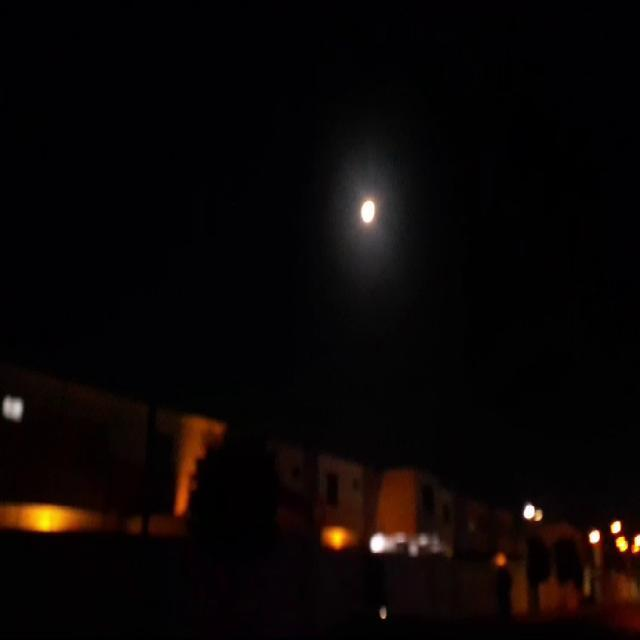moon: (343, 201, 366, 235)
